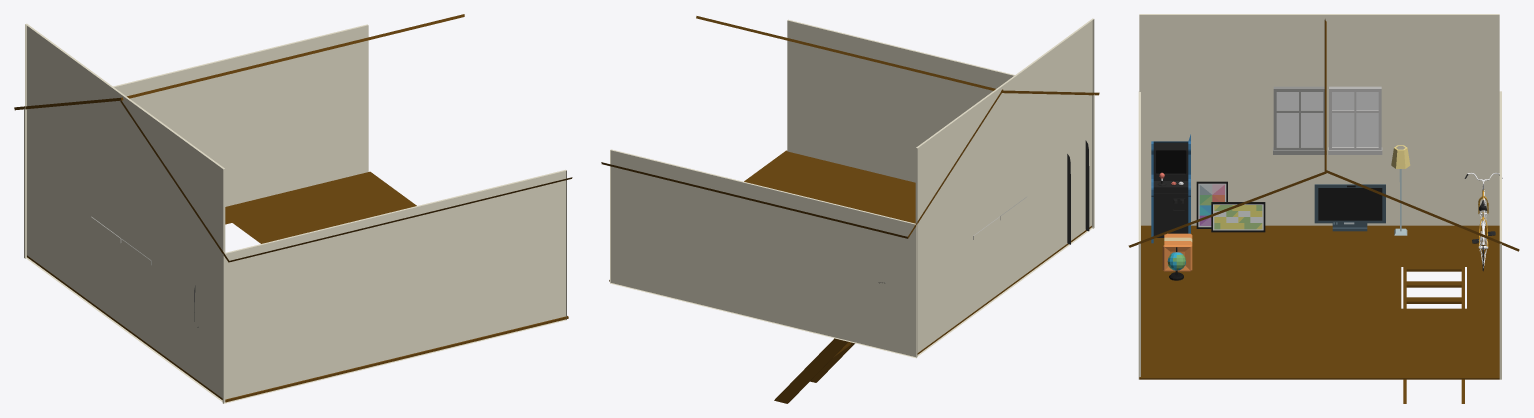
The model's file is attic.glb.
3 views of the same model, side by side, from view 1: azimuth 30°, elevation 25°; view 2: azimuth 150°, elevation 25°; view 3: azimuth 270°, elevation 25° (orthographic). The views are drawn at different scales.
Visible parts, largest first — view 1: attic; view 2: attic; view 3: attic.
Boxes of the visible parts, x1=… form: attic: x1=14, y1=14, x2=572, y2=403; attic: x1=601, y1=16, x2=1099, y2=403; attic: x1=1128, y1=14, x2=1519, y2=403.
Size of the model in its own units: 10.66 by 9.98 by 11.42.
Materials: 53 (1 with a texture image).
